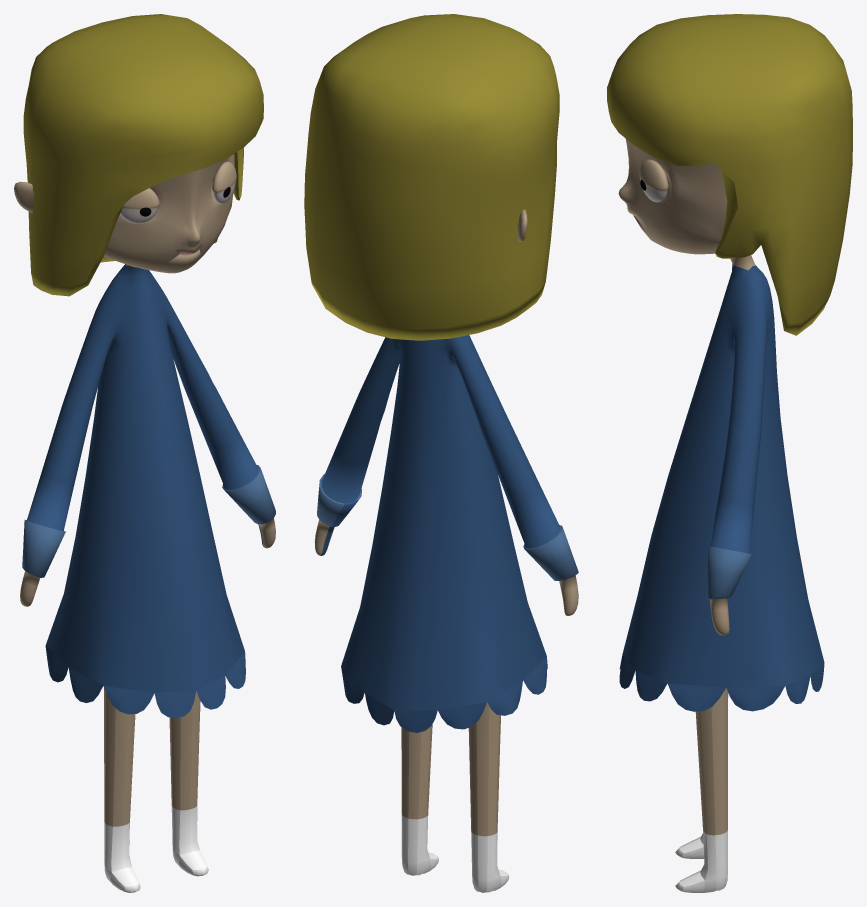
Rendered from clementine_player.fbx.
3 views of the same model, side by side, from view 1: azimuth 30°, elevation 25°; view 2: azimuth 150°, elevation 25°; view 3: azimuth 270°, elevation 25° (orthographic). The views are drawn at different scales.
Parts seen in each view (by area): view 1: Cylinder; view 2: Cylinder; view 3: Cylinder.
Boxes of the visible parts, x1,y1,x2,y2 form: Cylinder: [14, 14, 275, 892]; Cylinder: [304, 14, 578, 892]; Cylinder: [607, 14, 852, 892].
Bounding box in the file's own units: 92.15 × 287 × 76.04.
